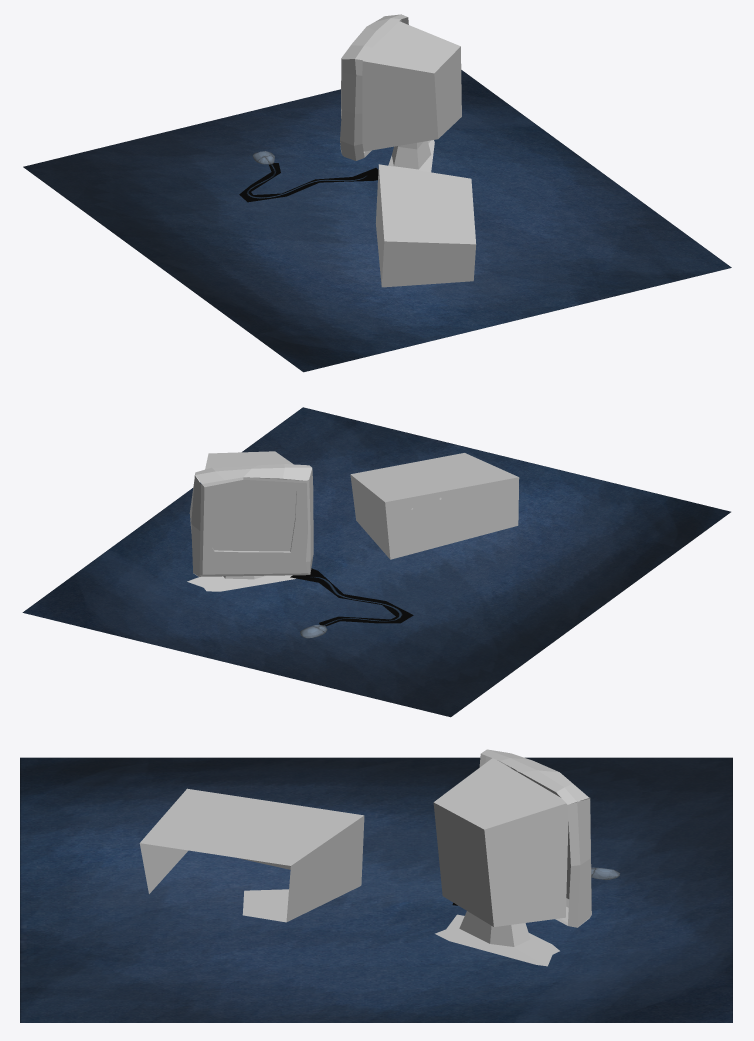
The model's file is Bilgisayar.fbx.
3 renders of one model, top to bottom at view 1: azimuth 30°, elevation 25°; view 2: azimuth 150°, elevation 25°; view 3: azimuth 270°, elevation 25°, orthographic. The views are drawn at different scales.
Parts seen in each view (by area): view 1: Carpet, COMPUTER BOX, computer back, computer front, mouse, computer bottom; view 2: Carpet, computer front, COMPUTER BOX, mouse, computer bottom, computer back; view 3: Carpet, computer back, COMPUTER BOX, computer front, computer bottom.
Part boxes in pixels (x1,y1,x2,y2): Carpet: (23, 70, 731, 372); COMPUTER BOX: (375, 164, 476, 287); computer back: (362, 21, 461, 151); computer front: (340, 14, 408, 160); mouse: (239, 151, 378, 202); computer bottom: (388, 140, 434, 172); Carpet: (22, 407, 730, 717); computer front: (189, 464, 313, 576); COMPUTER BOX: (350, 453, 519, 559); mouse: (290, 568, 413, 638); computer bottom: (187, 575, 295, 591); computer back: (205, 451, 292, 469); Carpet: (20, 757, 732, 1022); computer back: (433, 758, 568, 926); COMPUTER BOX: (139, 788, 364, 922); computer front: (479, 749, 591, 927); computer bottom: (435, 911, 559, 966).
Size of the model in its own units: 220 by 62.03 by 247.
